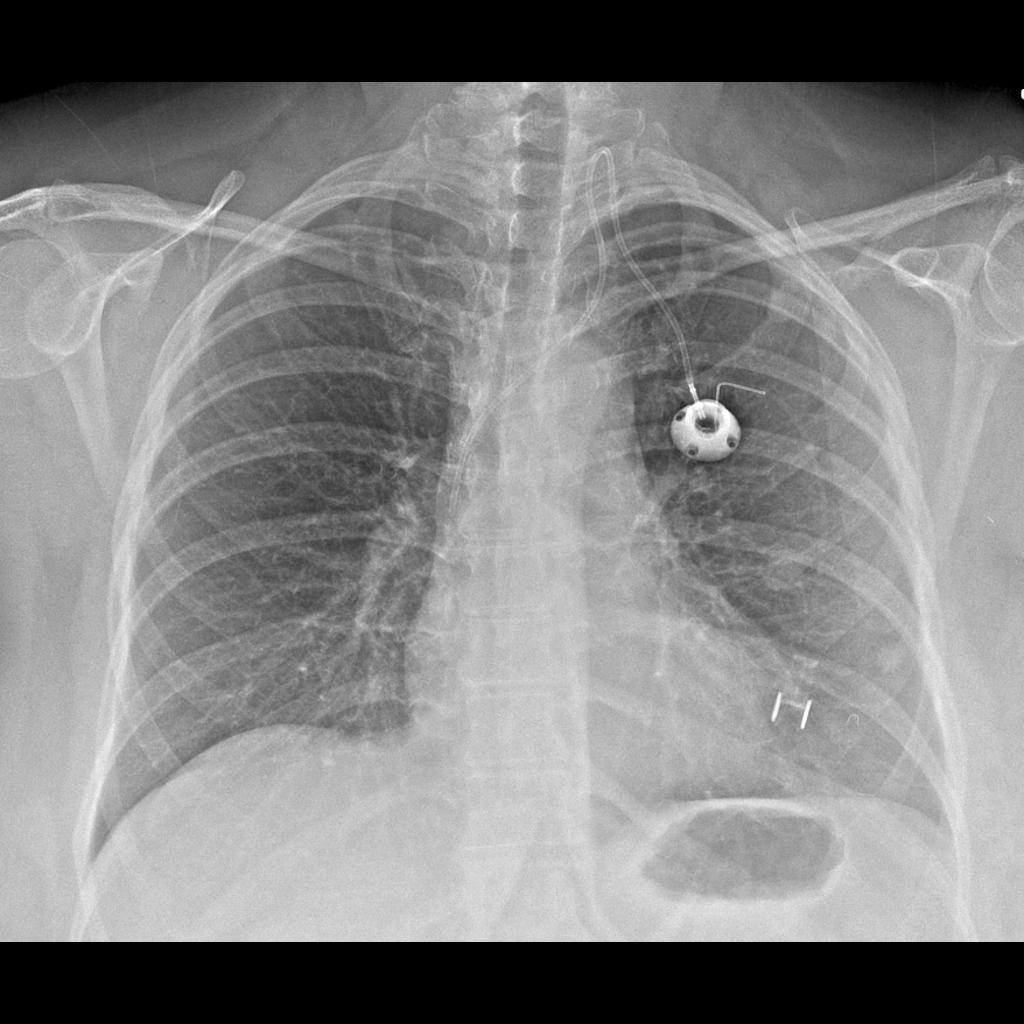Nodule: (756, 542, 819, 597), (865, 632, 910, 685)
